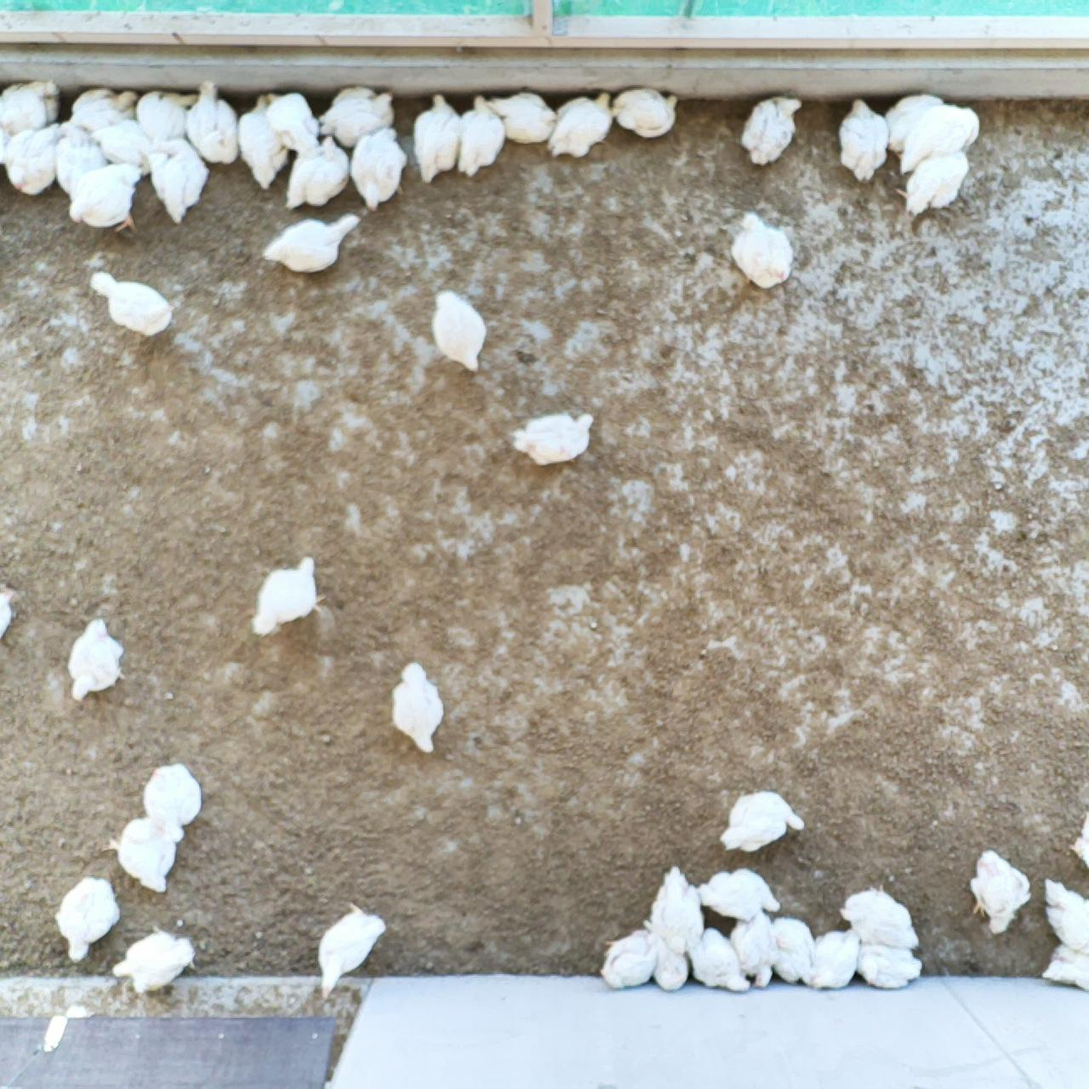chicken: (310, 901, 388, 1003), (246, 554, 329, 640), (261, 211, 362, 277), (86, 267, 176, 341), (101, 814, 180, 897), (111, 923, 200, 996), (896, 102, 982, 177), (53, 872, 122, 965), (964, 847, 1034, 937), (642, 864, 707, 958), (837, 881, 921, 951), (66, 161, 144, 236), (718, 790, 807, 855), (139, 762, 208, 844), (148, 137, 210, 228), (283, 133, 352, 213), (65, 616, 127, 705), (389, 657, 444, 757), (236, 92, 291, 192), (349, 127, 412, 214), (729, 209, 794, 291), (430, 286, 489, 376), (893, 150, 971, 218), (509, 409, 596, 469), (184, 80, 243, 168), (317, 84, 394, 149), (835, 95, 892, 182), (738, 93, 804, 168), (545, 90, 614, 160), (697, 866, 783, 922), (411, 91, 462, 184), (1, 123, 63, 198), (687, 926, 754, 994), (456, 94, 507, 178), (728, 910, 781, 989), (596, 925, 656, 993), (484, 91, 557, 146), (53, 125, 110, 194), (611, 85, 681, 141), (1040, 875, 1089, 955), (89, 118, 153, 178), (640, 919, 689, 995), (884, 94, 946, 154), (132, 89, 204, 140), (806, 928, 863, 992), (857, 938, 925, 991), (262, 90, 319, 153), (0, 78, 61, 136), (67, 86, 140, 132), (772, 915, 818, 986), (1038, 941, 1089, 993), (0, 583, 16, 641)
